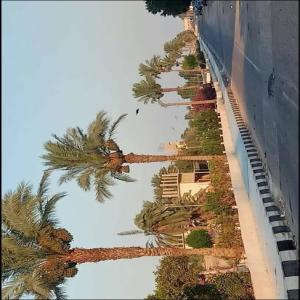palm tree: (38, 109, 138, 203)
